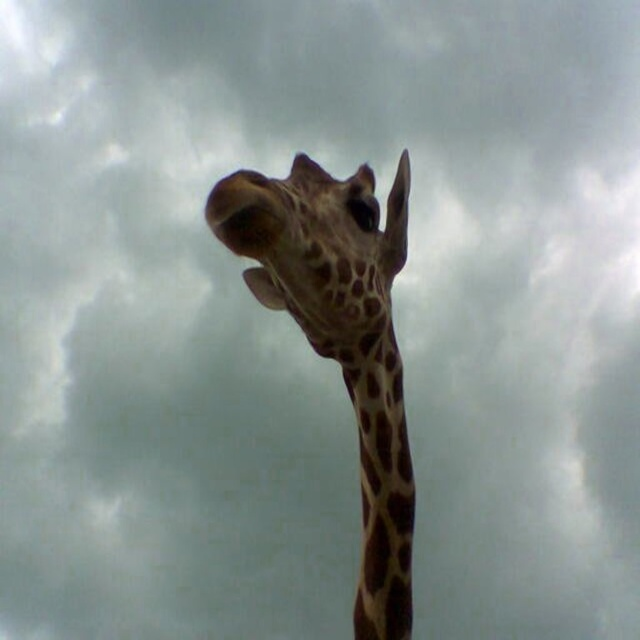Giraffe: (210, 125, 432, 625)
